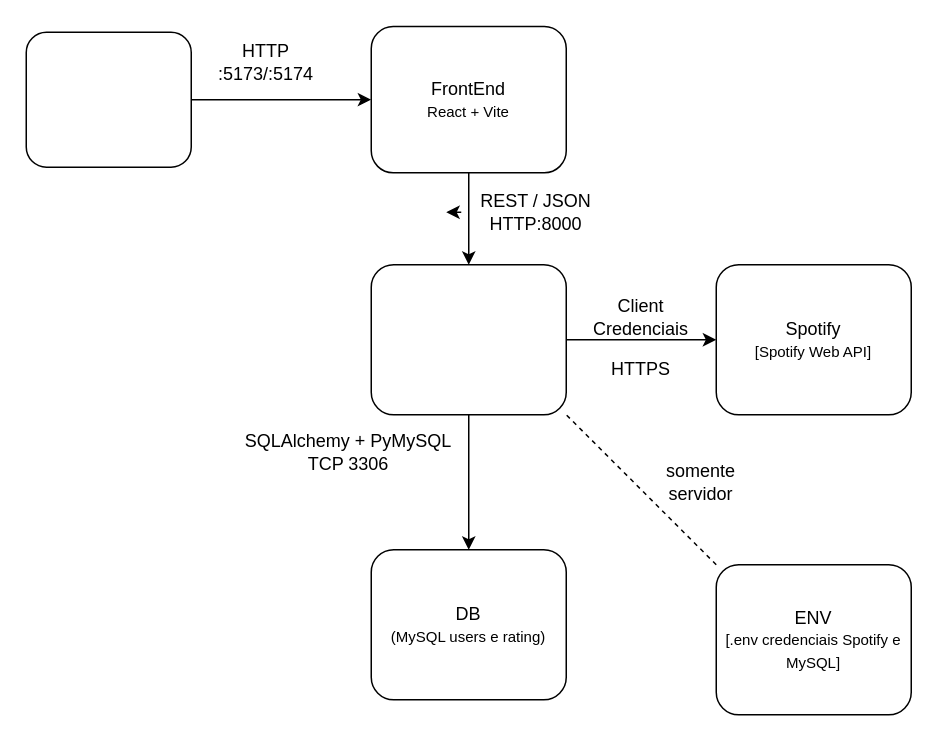
Some shapes in this 938 by 741 pixel diagram are drawn without their labels. The shapes that lost their labels are listed below. From the top down, each one's centre as x and y in pixels, then its label:
point 108,99: [Usuário Navegador]
point 468,339: API [BackEnd Fast API + Uvicorn]
